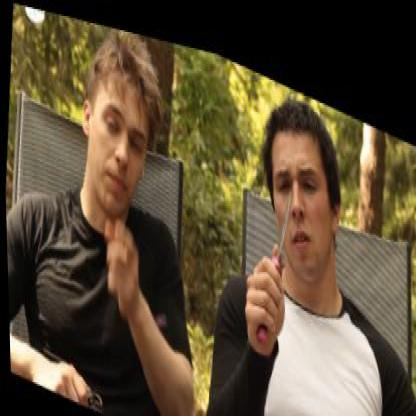knife: (241, 148, 298, 320)
